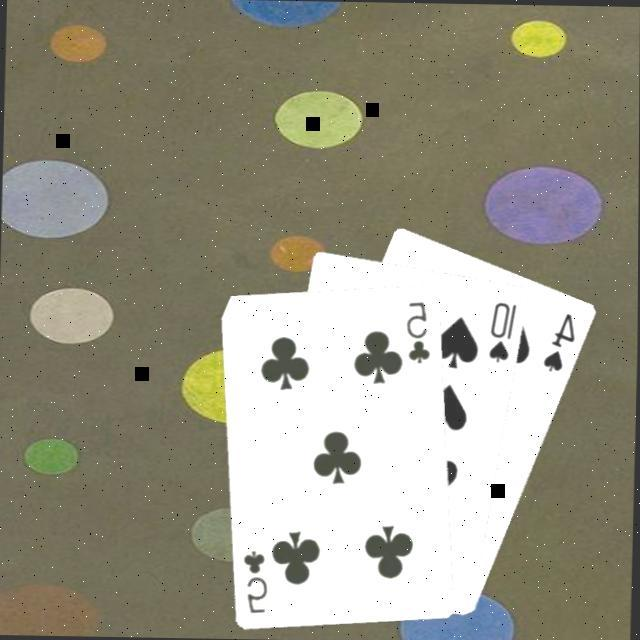10S: (486, 294, 522, 364)
4S: (541, 305, 580, 373)
5C: (240, 544, 273, 614), (404, 294, 436, 364)
